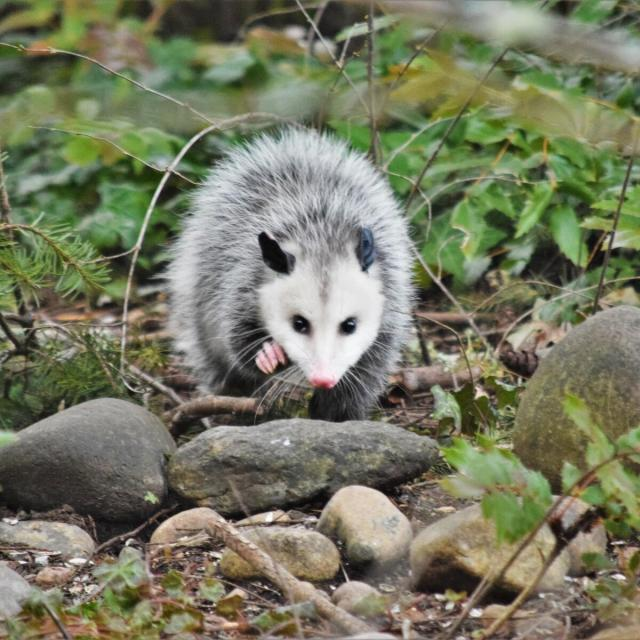Possum: (174, 120, 416, 416)
